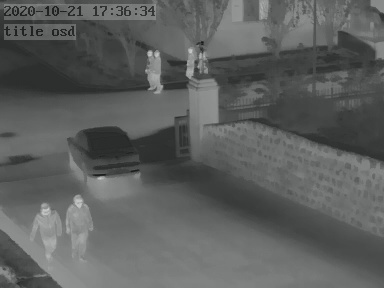person: (67, 192, 95, 261), (35, 199, 62, 261), (145, 47, 163, 92), (185, 45, 197, 79)
vehicle: (70, 126, 142, 182)
